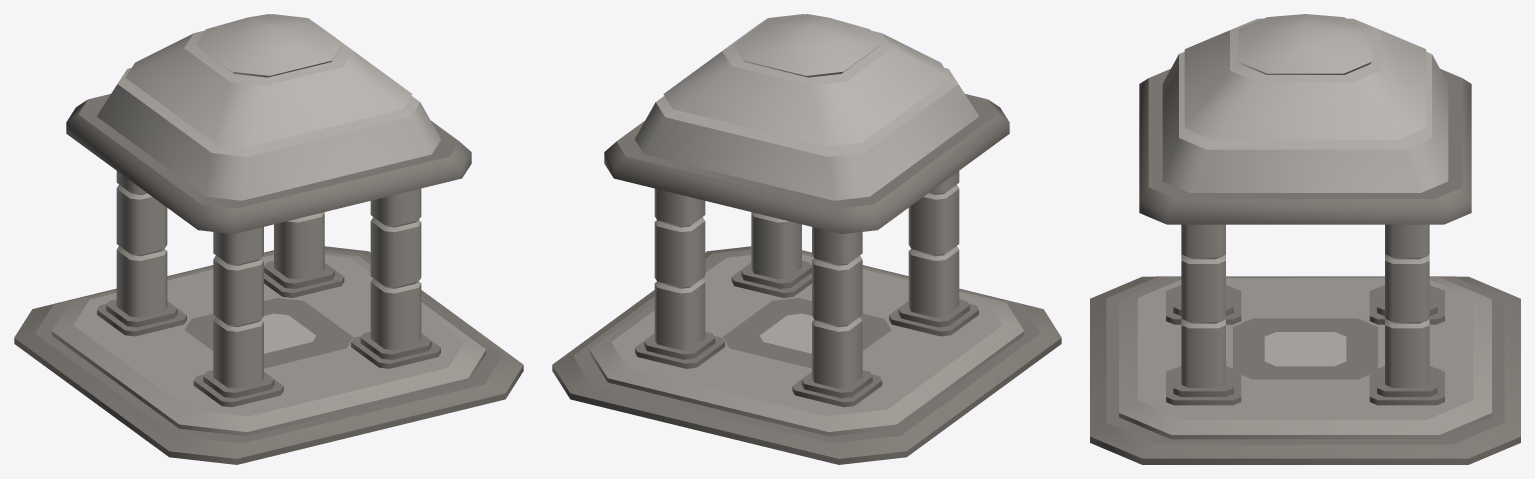
File: Hut 01.FBX
The picture shows the model from 3 angles, left to right: view 1: azimuth 30°, elevation 25°; view 2: azimuth 150°, elevation 25°; view 3: azimuth 270°, elevation 25°; orthographic projection. The views are drawn at different scales.
Parts seen in each view (by area): view 1: Hut 01; view 2: Hut 01; view 3: Hut 01.
Boxes of the visible parts, left/top/right/bottom form: Hut 01: left=14, top=14, right=523, bottom=464; Hut 01: left=552, top=14, right=1061, bottom=464; Hut 01: left=1090, top=14, right=1520, bottom=464.
Bounding box in the file's own units: 633 × 564 × 633.
Materials: 1 (1 with a texture image).
